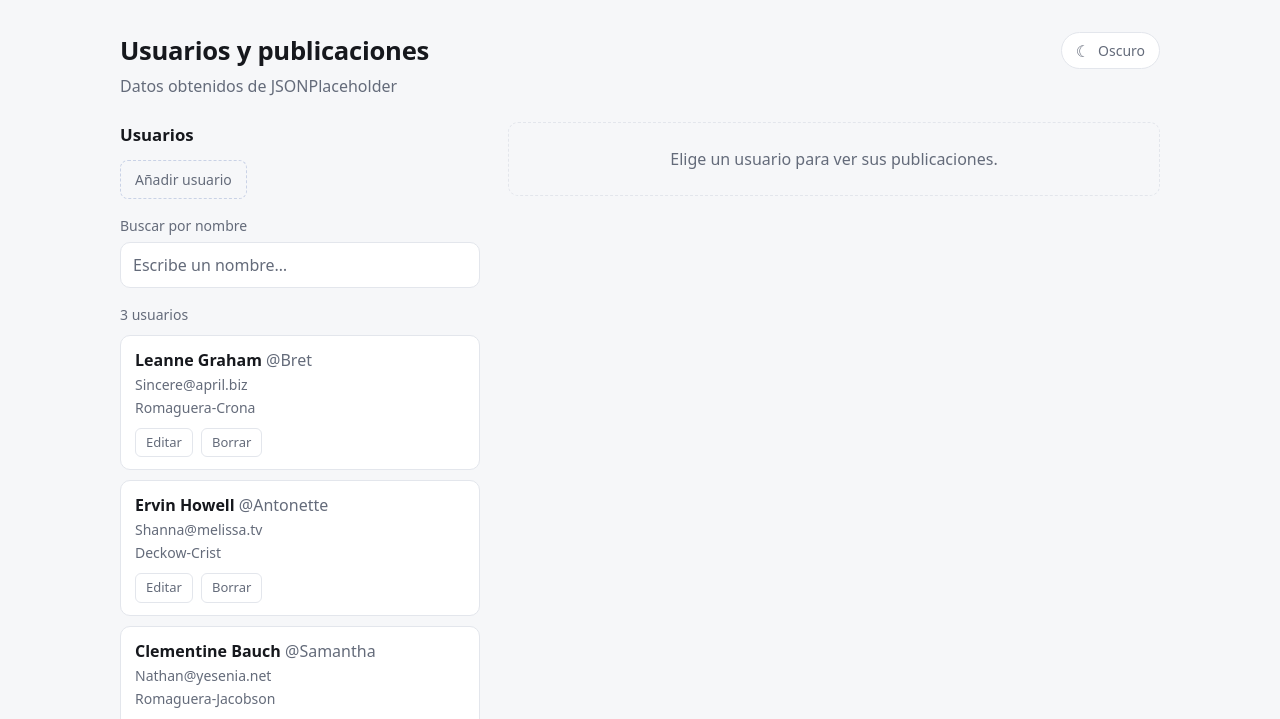
Scenario: App › avisa si el usuario elegido no tiene publicaciones
Click the button with aria-label "ver publicaciones de leanne graham": (198, 360) [135, 348, 465, 418]
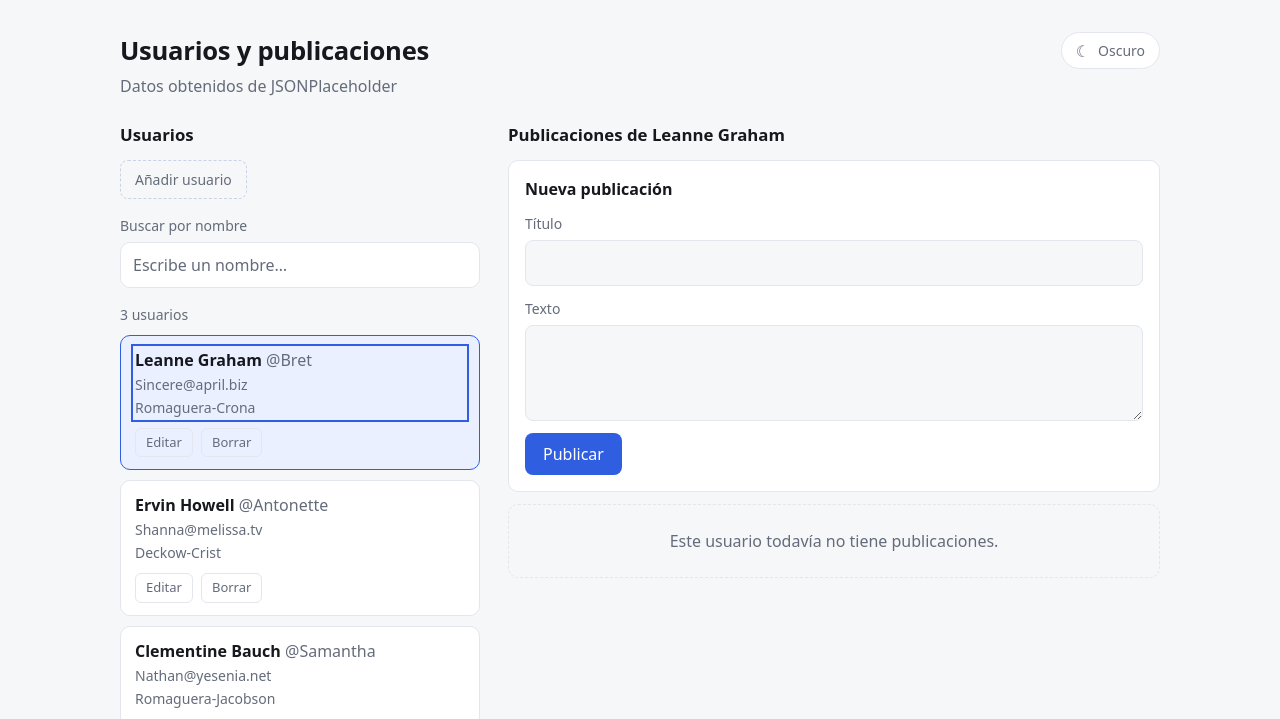
Expected: the text "Este usuario todavía no tiene publicaciones." is shown, [508, 504, 1160, 578]
